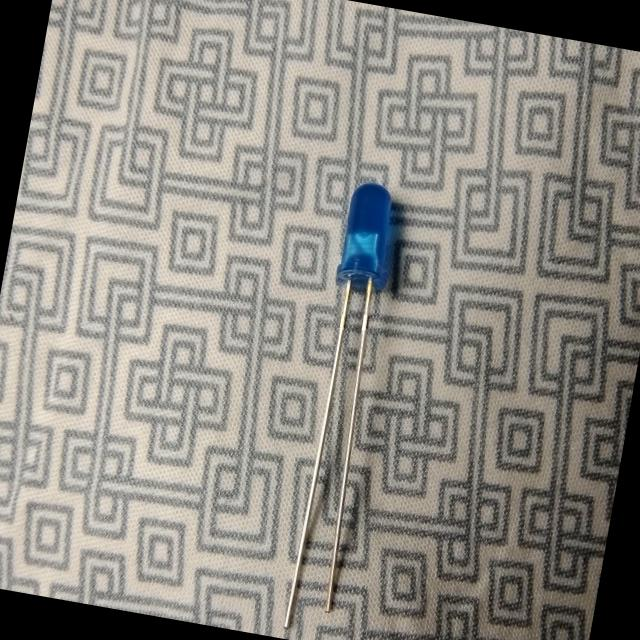blue_led: (332, 177, 404, 296)
